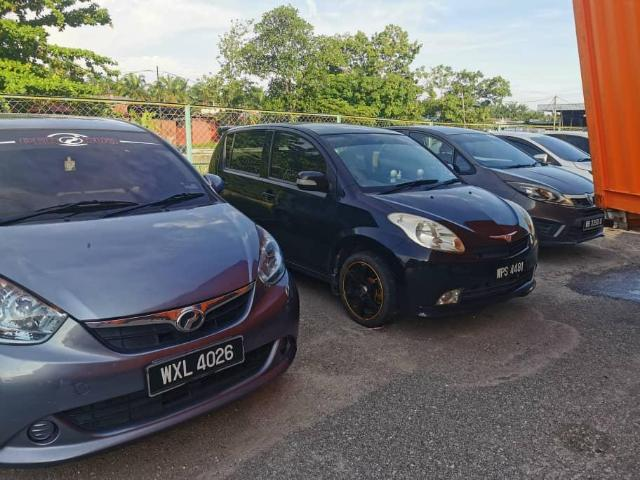License_Plate: (156, 336, 241, 396), (492, 254, 530, 290)
car: (1, 105, 299, 467), (214, 115, 546, 332), (382, 115, 611, 254)
